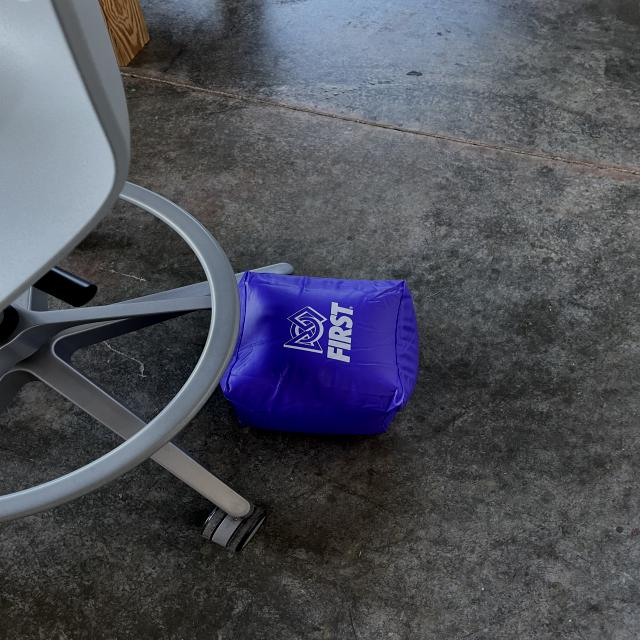frc_cube: (220, 266, 422, 441)
